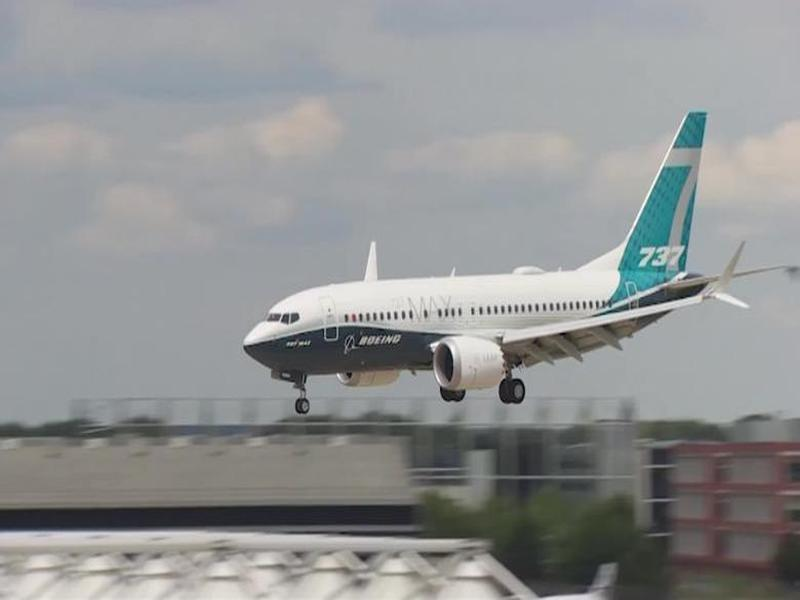737-MAX: (229, 101, 743, 417)
